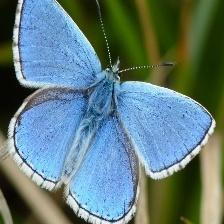butterfly: (9, 0, 216, 224)
